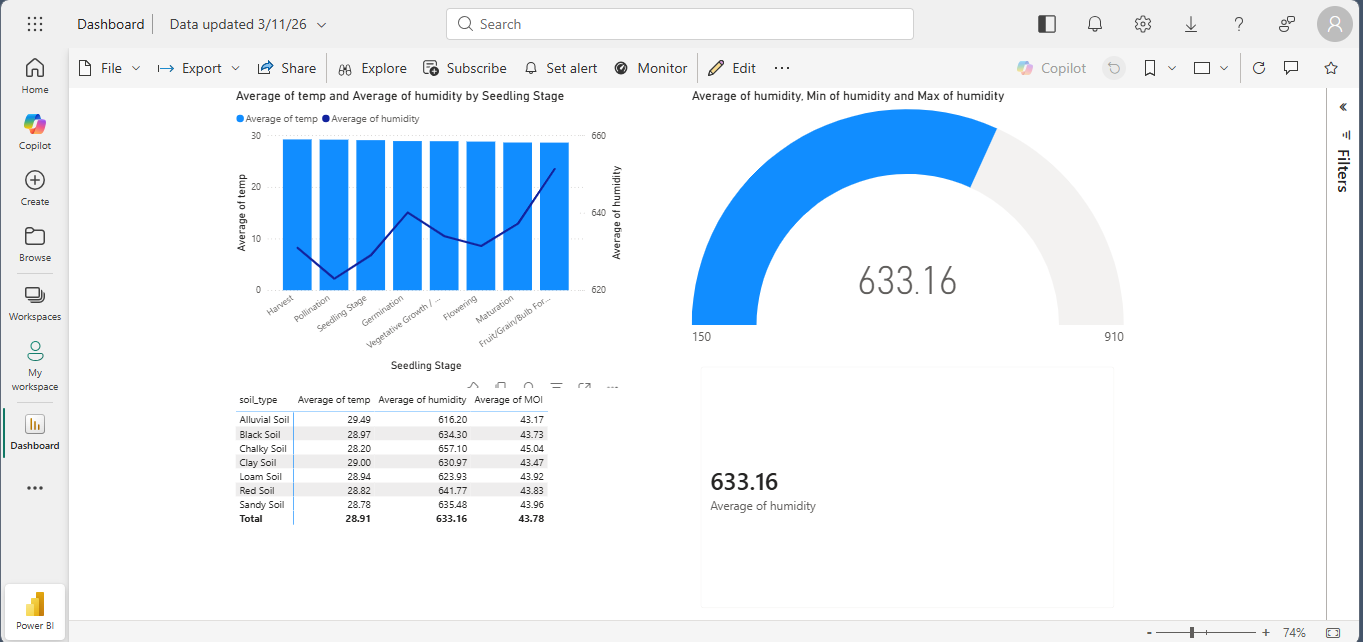

What the dashboard file says about the page in this screenshot:
{"tool":"powerbi","page":{"name":"Page 1","canvas":[1280,720],"ordinal":0},"visuals":[{"type":"lineClusteredColumnComboChart","fields":{"Category":["cleaned_data.Seedling Stage"],"Y":["Avg(cleaned_data.temp)"],"Y2":["Avg(cleaned_data.humidity)"]},"box":[10.1,0,532.5,388],"z":0},{"type":"gauge","fields":{"Y":["Avg(cleaned_data.humidity)"],"MinValue":["Min(cleaned_data.humidity)"],"MaxValue":["Max(cleaned_data.humidity)"]},"box":[626.6,0,594.6,359.5],"z":1},{"type":"pivotTable","fields":{"Rows":["cleaned_data.soil_type"],"Values":["Avg(cleaned_data.temp)","Avg(cleaned_data.humidity)","Avg(cleaned_data.MOI)"]},"box":[10.1,406.5,594.6,314.1],"z":2},{"type":"cardVisual","fields":{"Data":["Avg(cleaned_data.humidity)"]},"box":[626.6,359.5,594.6,361.2],"z":3}]}

Visuals, with their boxes on the page's 1280x720 design canvas (x1, y1, x2, y2). These are canvas units, not pixel positions in the 1363x642 screenshot, which may show the page scaled, cropped or inside an application window:
lineClusteredColumnComboChart - cleaned_data.Seedling Stage x Avg(cleaned_data.temp): crop(10, 0, 543, 388)
gauge - Avg(cleaned_data.humidity) x Min(cleaned_data.humidity): crop(627, 0, 1221, 360)
pivotTable - cleaned_data.soil_type x Avg(cleaned_data.temp): crop(10, 406, 605, 721)
cardVisual - Avg(cleaned_data.humidity): crop(627, 360, 1221, 721)
